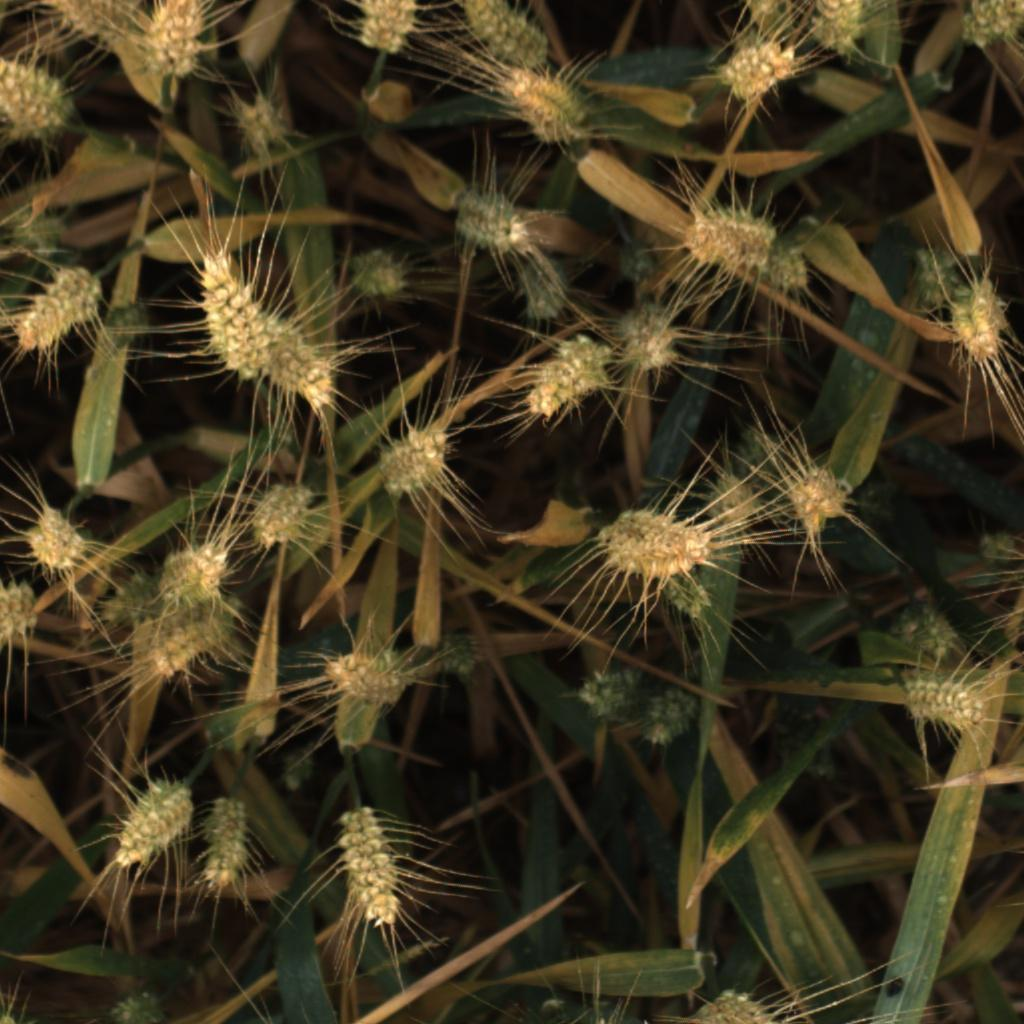0-0: (191, 242, 274, 381), (586, 497, 717, 576), (12, 258, 112, 361), (144, 596, 257, 684), (333, 801, 408, 927), (114, 770, 202, 872), (458, 0, 566, 79), (721, 419, 793, 532), (516, 342, 615, 424), (764, 682, 842, 784), (900, 672, 1000, 742), (196, 784, 257, 897), (502, 63, 588, 143), (678, 203, 772, 273), (369, 425, 454, 502), (273, 319, 338, 416), (509, 249, 581, 335), (0, 54, 68, 143), (142, 0, 216, 78), (159, 534, 233, 612), (22, 497, 94, 574), (451, 184, 532, 252), (946, 276, 1004, 367), (245, 480, 315, 554), (321, 650, 413, 706), (718, 39, 796, 103), (615, 305, 682, 379), (426, 623, 491, 696), (228, 88, 292, 161), (29, 0, 133, 43), (704, 459, 762, 534), (344, 245, 412, 306), (784, 464, 848, 528), (354, 0, 434, 49), (98, 570, 162, 631), (573, 666, 646, 719), (691, 991, 805, 1024), (894, 602, 958, 660), (642, 688, 704, 747), (14, 197, 73, 257), (901, 243, 956, 306), (958, 0, 1024, 51), (0, 574, 39, 657), (270, 743, 327, 799), (807, 0, 868, 51), (656, 570, 713, 623), (975, 522, 1024, 583), (764, 246, 811, 298), (108, 986, 167, 1024), (733, 0, 790, 35)
